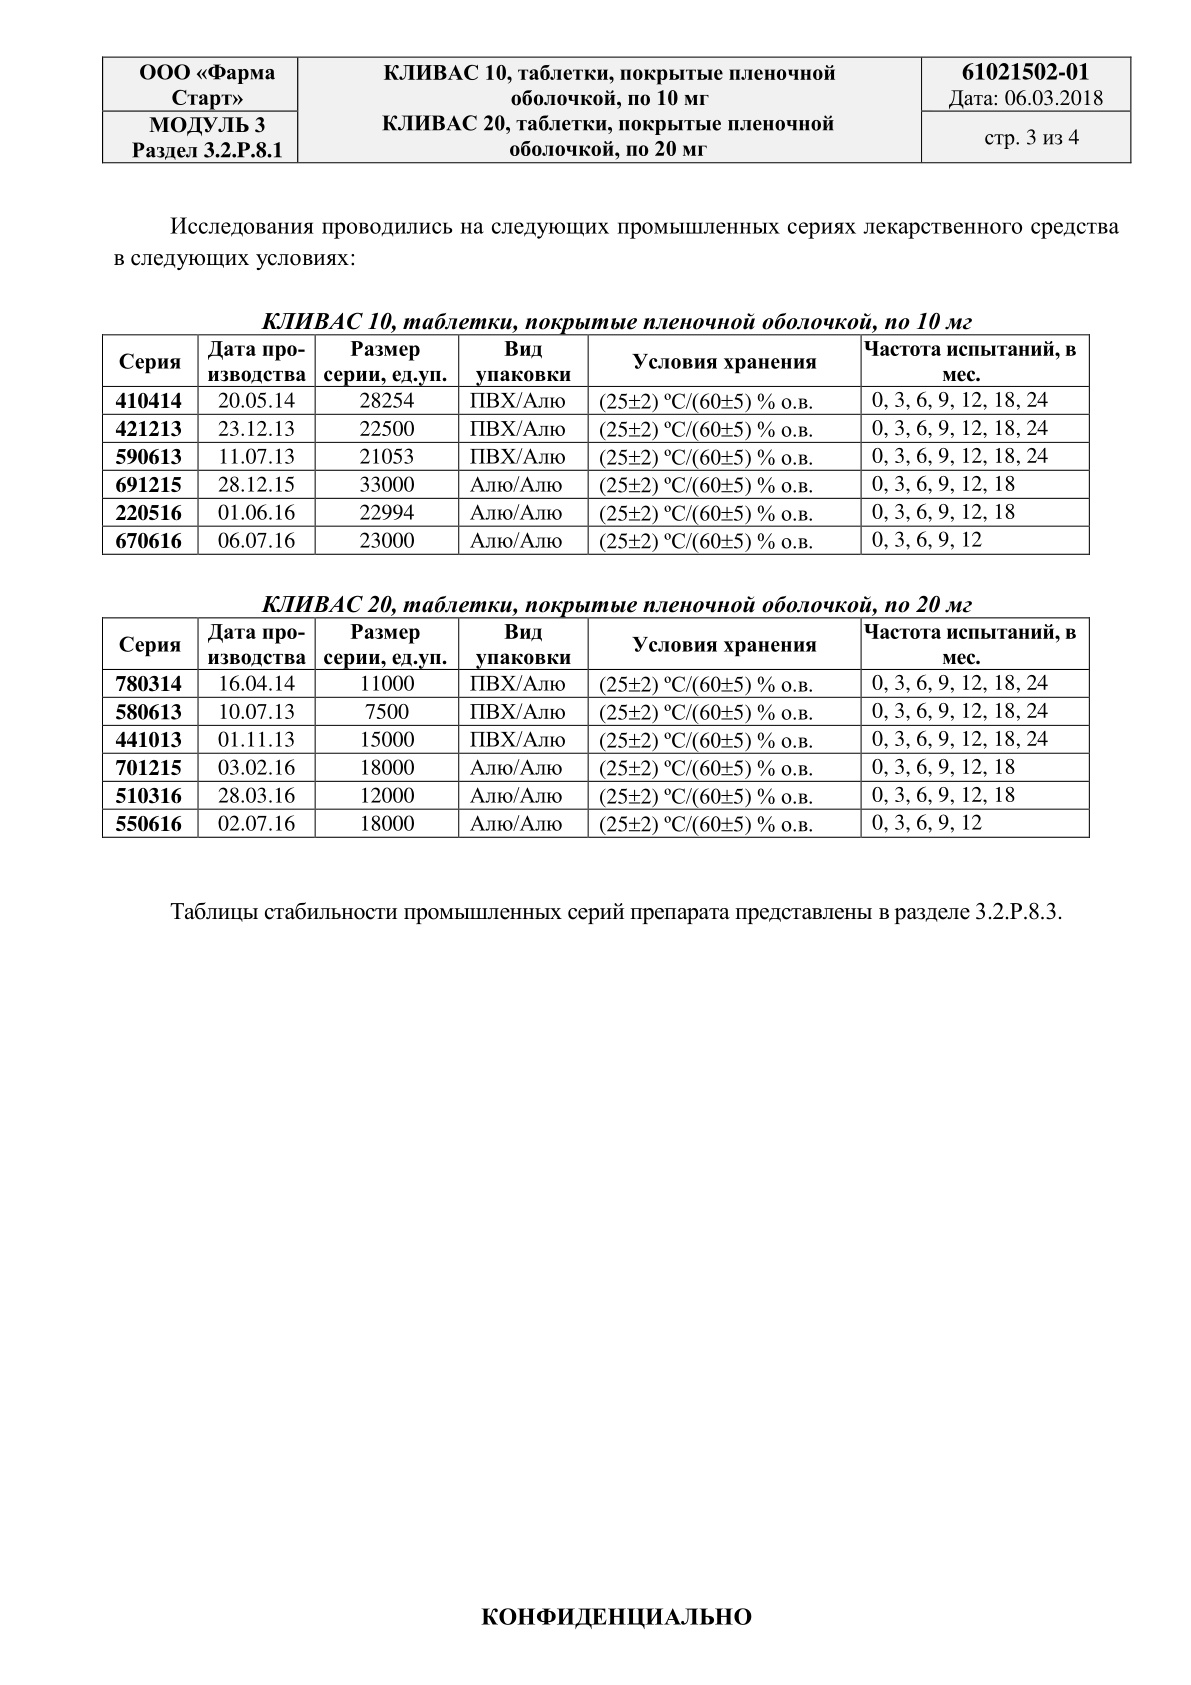full_lined: (101, 616, 1090, 841), (101, 333, 1090, 556)
merged_cells: (101, 55, 1132, 164)
